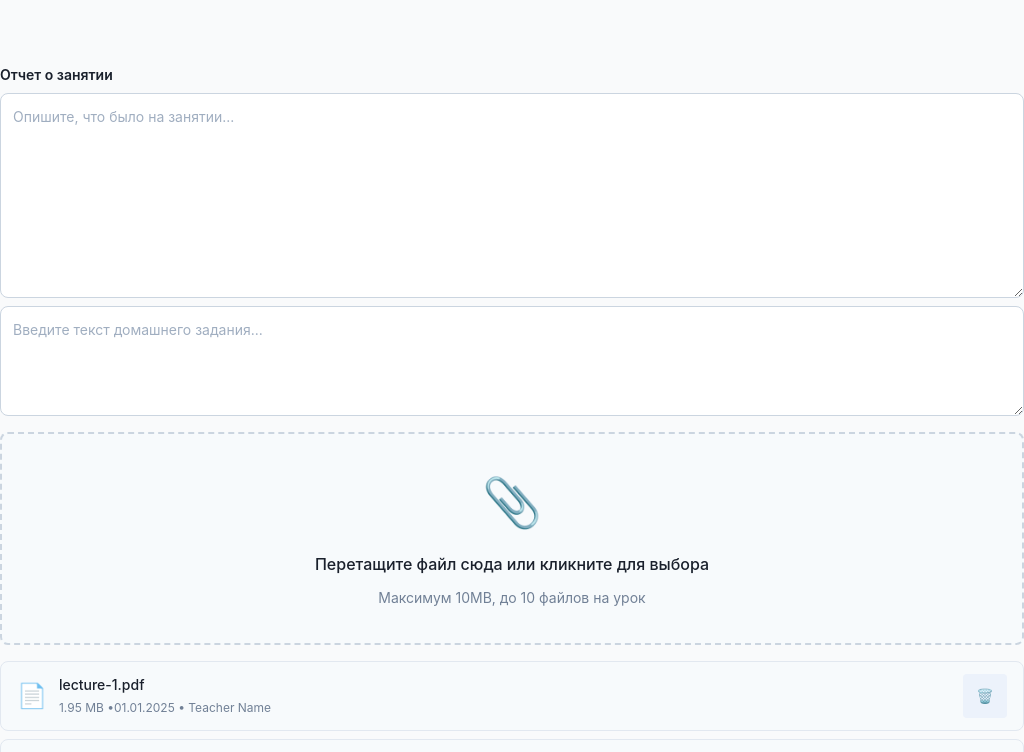
Test: HomeworkSection › File Delete › should show confirmation modal when delete clicked
Click the button titled "Удалить" in the row of "01.01.2025" at (985, 696), box top-left (963, 674), bottom-right (1007, 718)
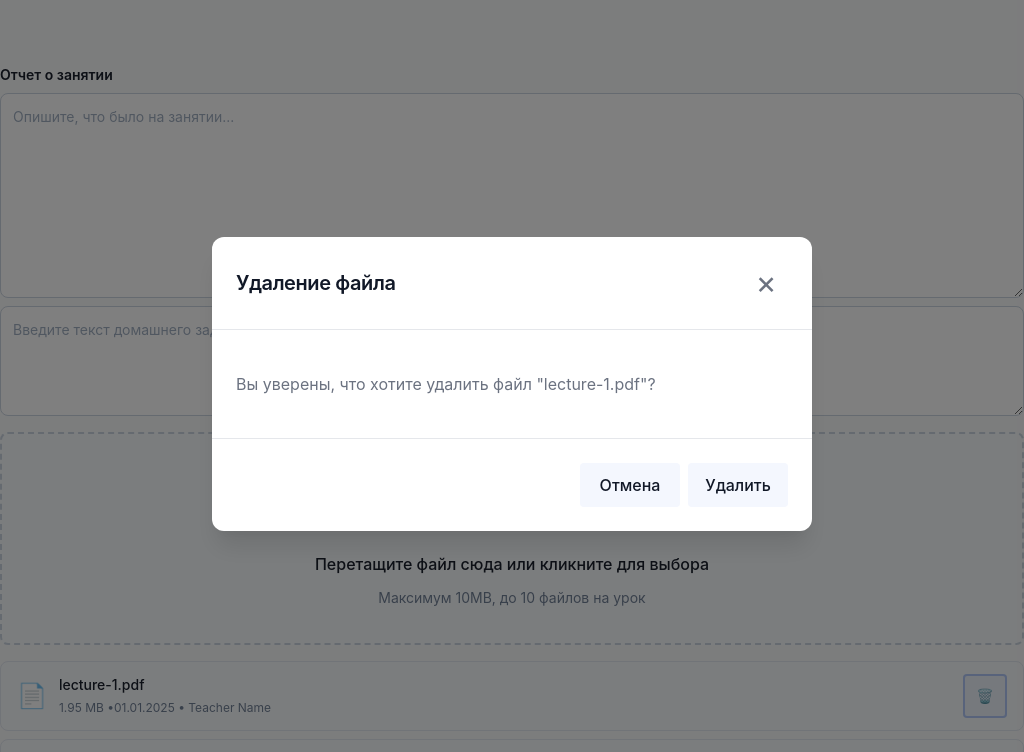
Now the text "Вы уверены, что хотите удалить файл \"lecture-1.pdf\"?" is shown, box top-left (236, 374), bottom-right (656, 394)
